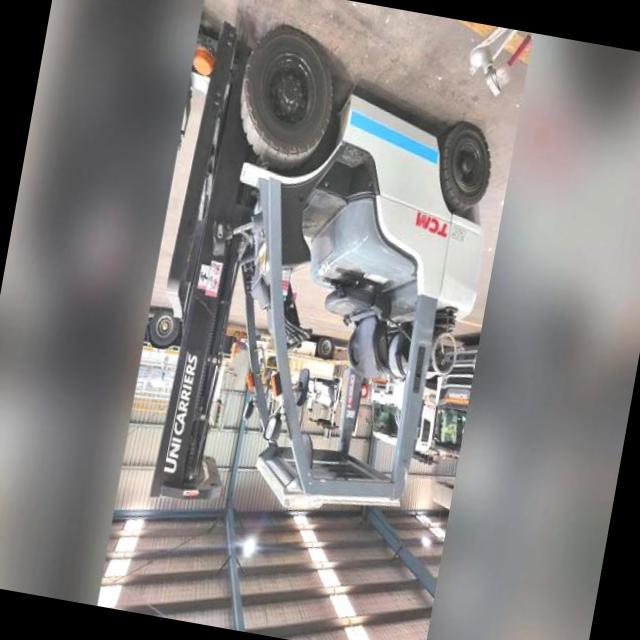forklift: (123, 6, 500, 561)
